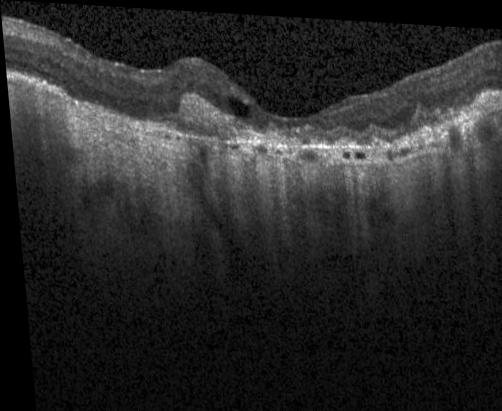intraretinal_cyst: (227, 94, 247, 114)
subretinal_hyperreflective_material: (135, 90, 307, 140), (390, 82, 502, 140), (6, 69, 65, 94), (331, 131, 355, 142), (366, 131, 388, 141)
